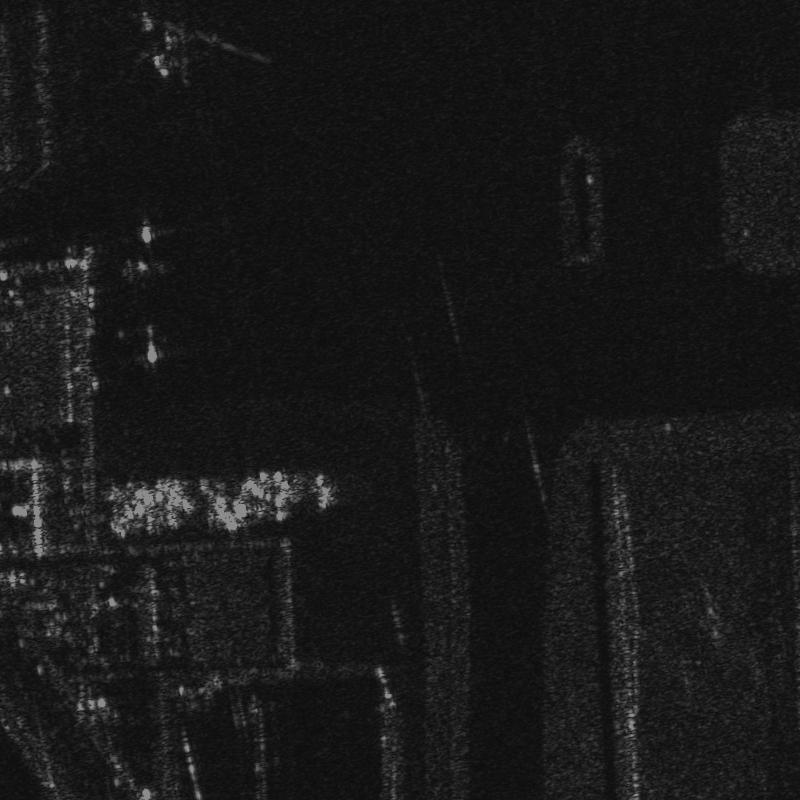A220: (134, 1, 218, 94)
other: (194, 460, 264, 542), (246, 453, 313, 525), (130, 474, 188, 540)
